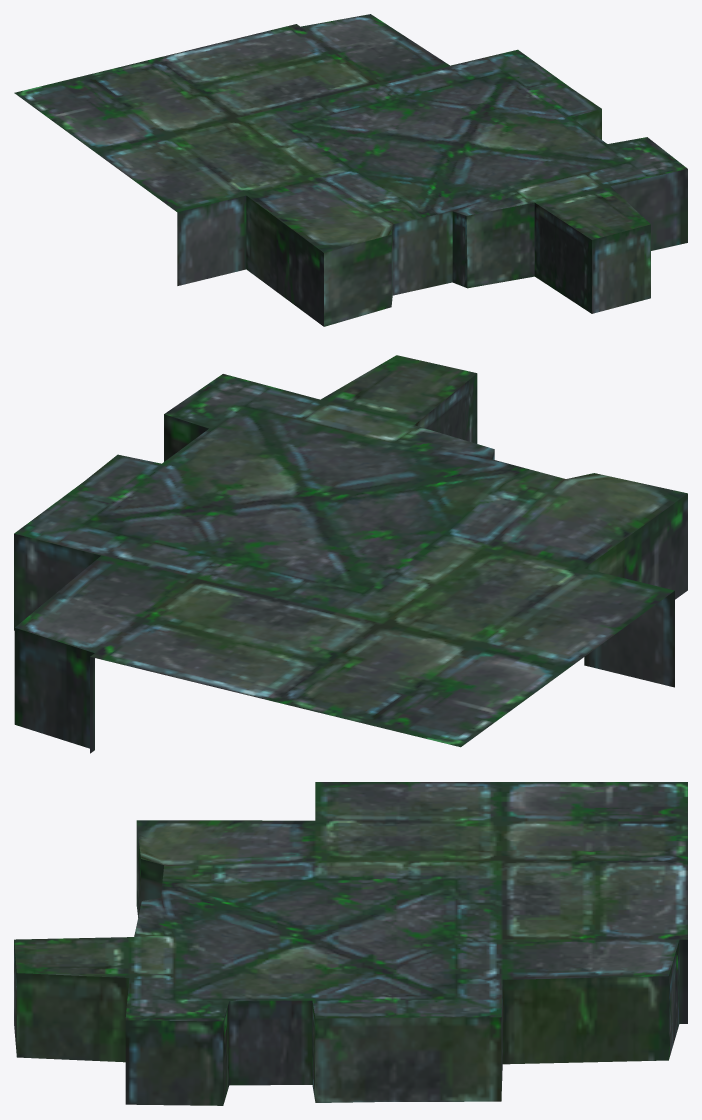
The model's file is stemple_floor_concave_03.fbx.
3 renders of one model, top to bottom at view 1: azimuth 30°, elevation 25°; view 2: azimuth 150°, elevation 25°; view 3: azimuth 270°, elevation 25°, orthographic. The views are drawn at different scales.
Visible parts, largest first — view 1: stemple_floor_concave_03-0; view 2: stemple_floor_concave_03-0; view 3: stemple_floor_concave_03-0.
Boxes of the visible parts, left/top/right/bottom form: stemple_floor_concave_03-0: left=14, top=14, right=687, bottom=326; stemple_floor_concave_03-0: left=14, top=355, right=687, bottom=753; stemple_floor_concave_03-0: left=14, top=782, right=687, bottom=1105.
Bounding box in the file's own units: 3.04 × 0.5 × 3.62.
